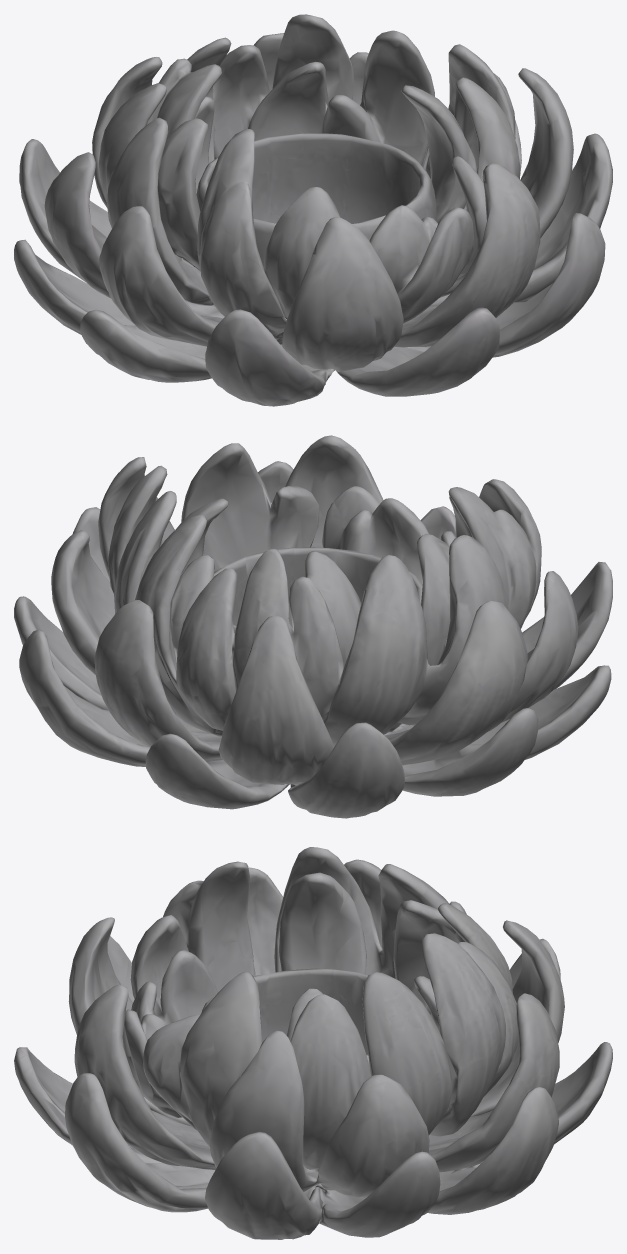
3 views of the same model, one above another, from view 1: azimuth 30°, elevation 25°; view 2: azimuth 150°, elevation 25°; view 3: azimuth 270°, elevation 25° (orthographic).
Bounding box in the file's own units: 1.9 × 0.8915 × 1.89.
Materials: 1 (1 with a texture image).
